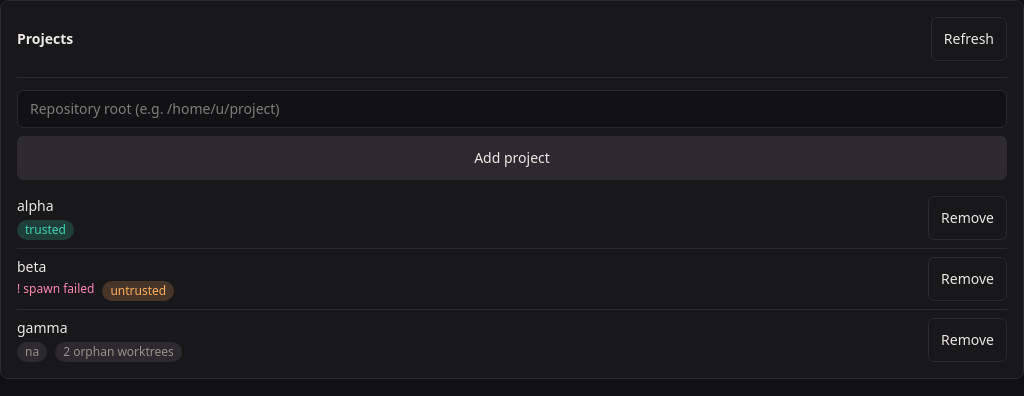
ProjectsPanel › adds a project and replaces the list from the addProject return value
Expected: the link "alpha" is shown, x1=17 y1=196 x2=54 y2=215
Type "/home/u/delta" into the field with placeholder "Repository root (e.g. /home/u/project)" at (512, 109), box x1=17 y1=90 x2=1007 y2=128
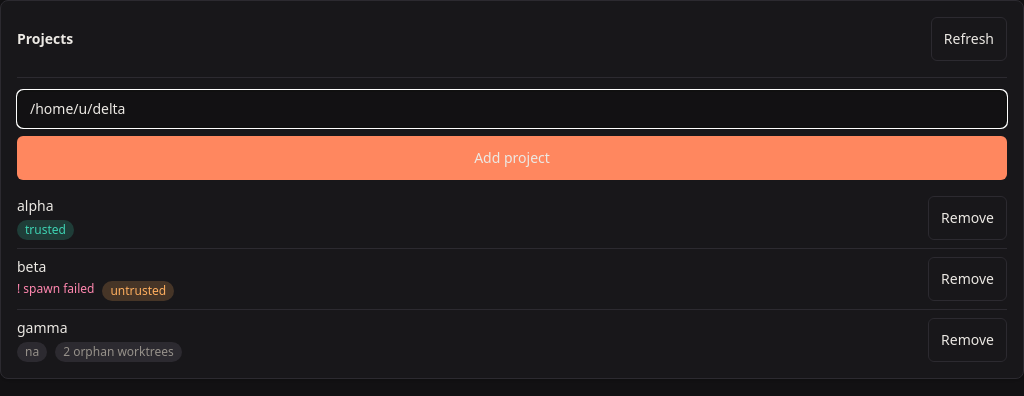
Click the button "Add project" at (512, 158), box x1=17 y1=136 x2=1007 y2=180
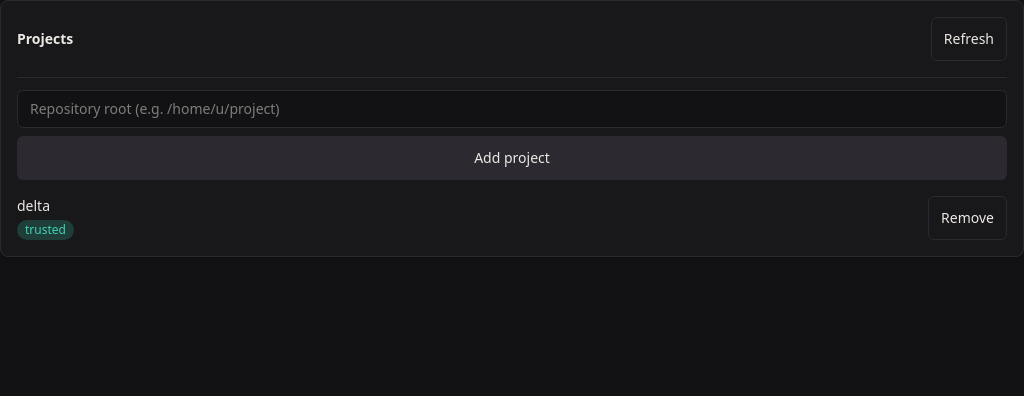
Result: the link "delta" is shown at x1=17 y1=196 x2=50 y2=215
Result: the link "alpha" is gone
